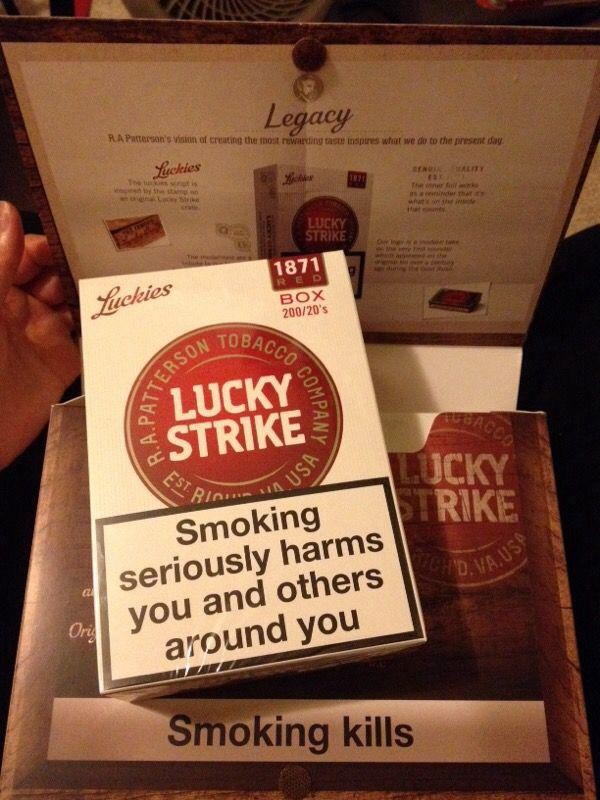lucky_strike_red: (94, 265, 350, 649)
